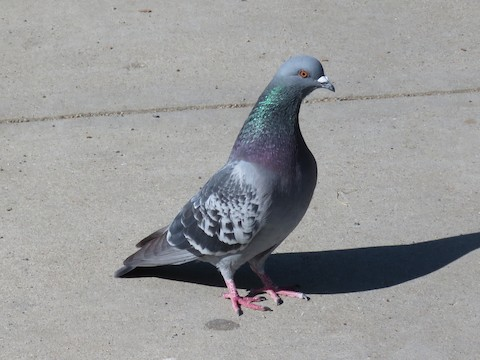pigeon: (112, 54, 338, 319)
